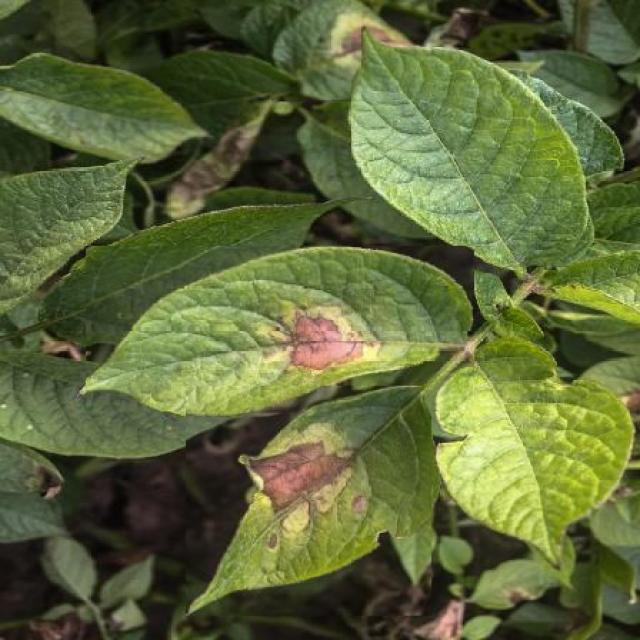Late Blight: (86, 246, 474, 411), (187, 386, 432, 616), (272, 2, 432, 102)
